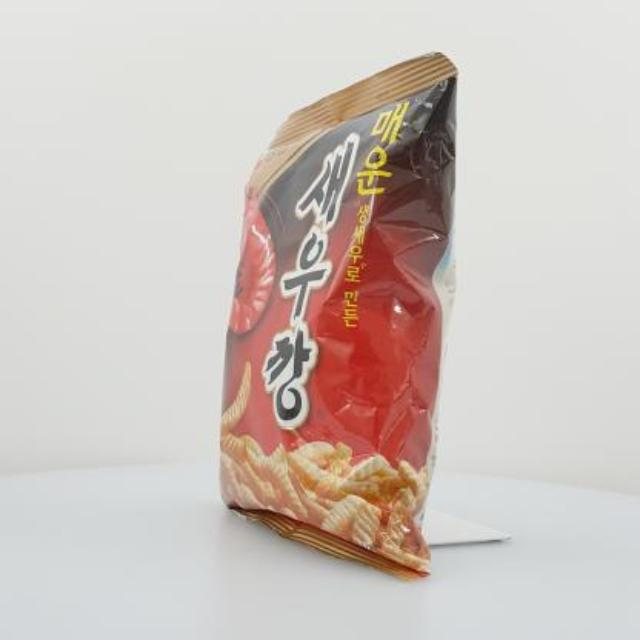snack_bag: (199, 38, 489, 588)
